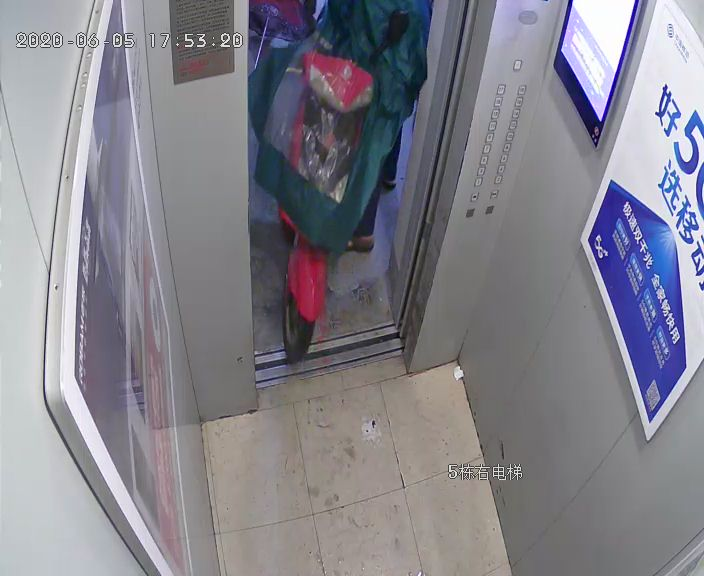Electric-bicycle: (248, 2, 377, 364)
